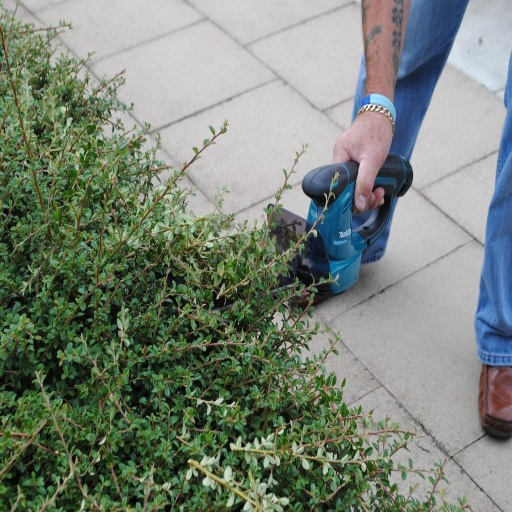hand: (328, 97, 397, 208)
